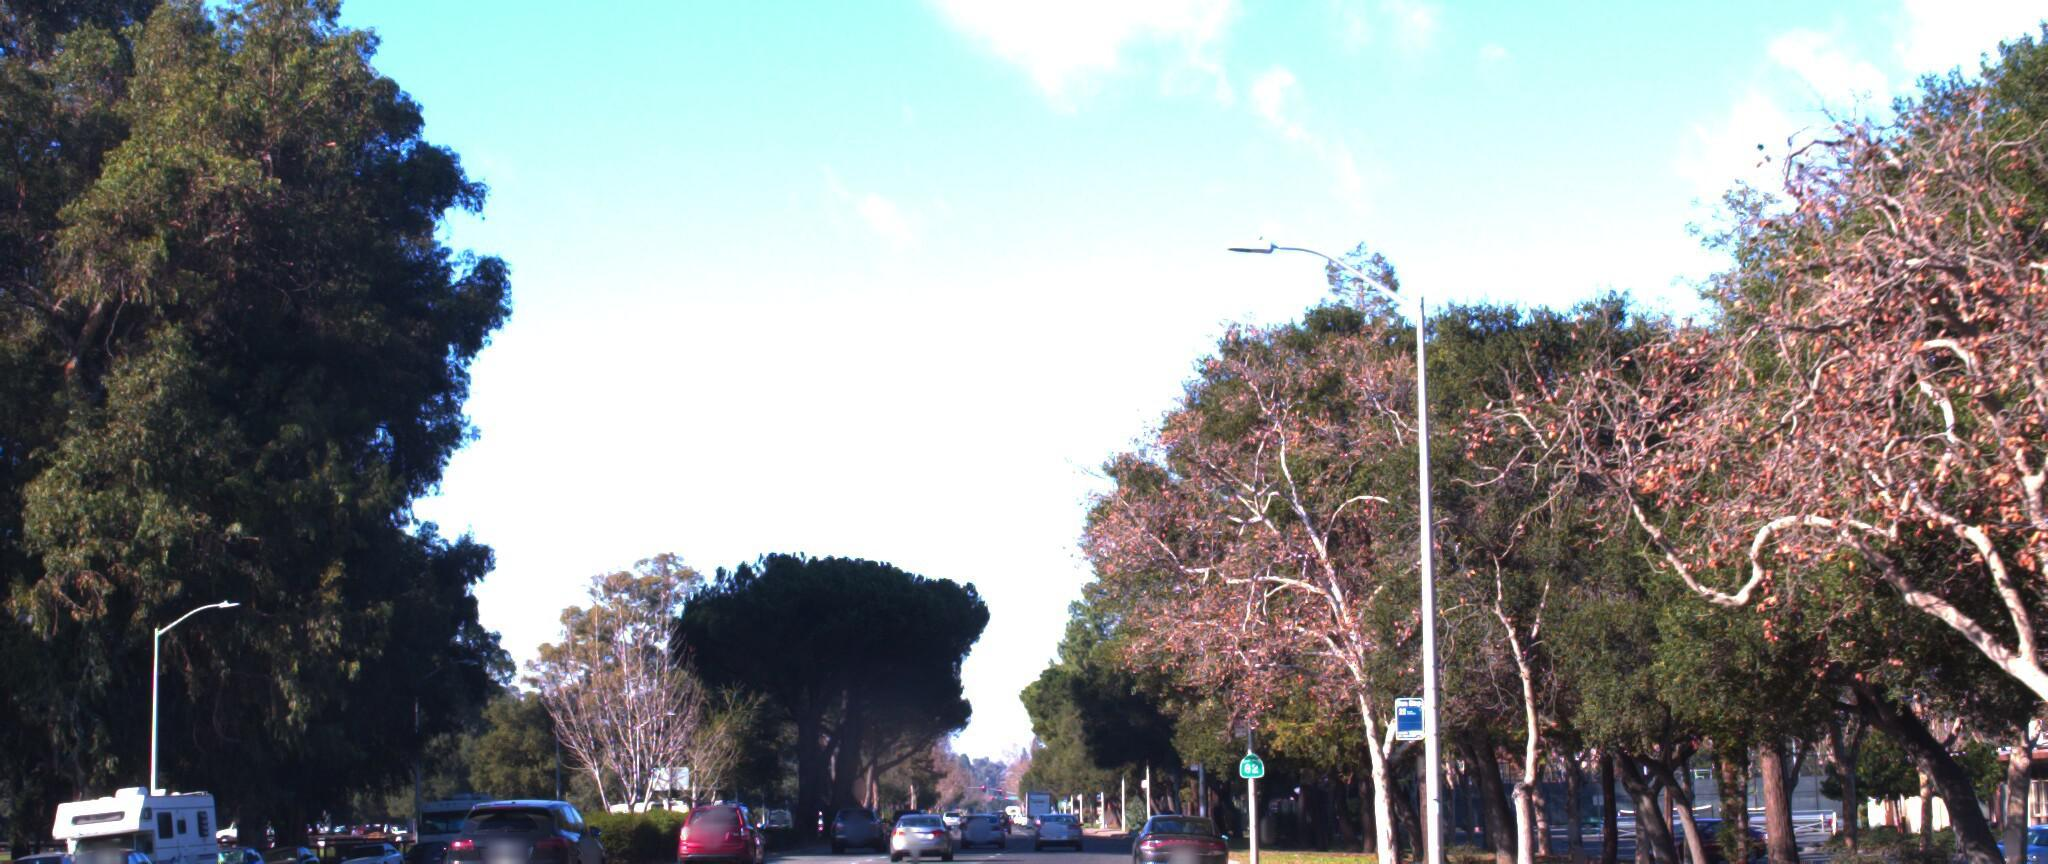car: (439, 769, 610, 864), (670, 786, 775, 861), (1125, 790, 1230, 864), (38, 825, 168, 864)
